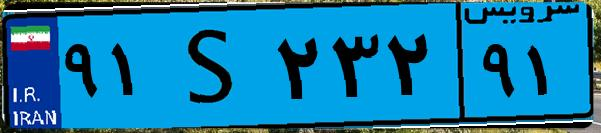1: (525, 38, 570, 115), (110, 28, 158, 98)
2: (270, 28, 330, 110), (385, 28, 445, 110)
3: (330, 28, 385, 110)
9: (57, 26, 110, 100), (475, 38, 525, 113)
S: (158, 12, 270, 120)
